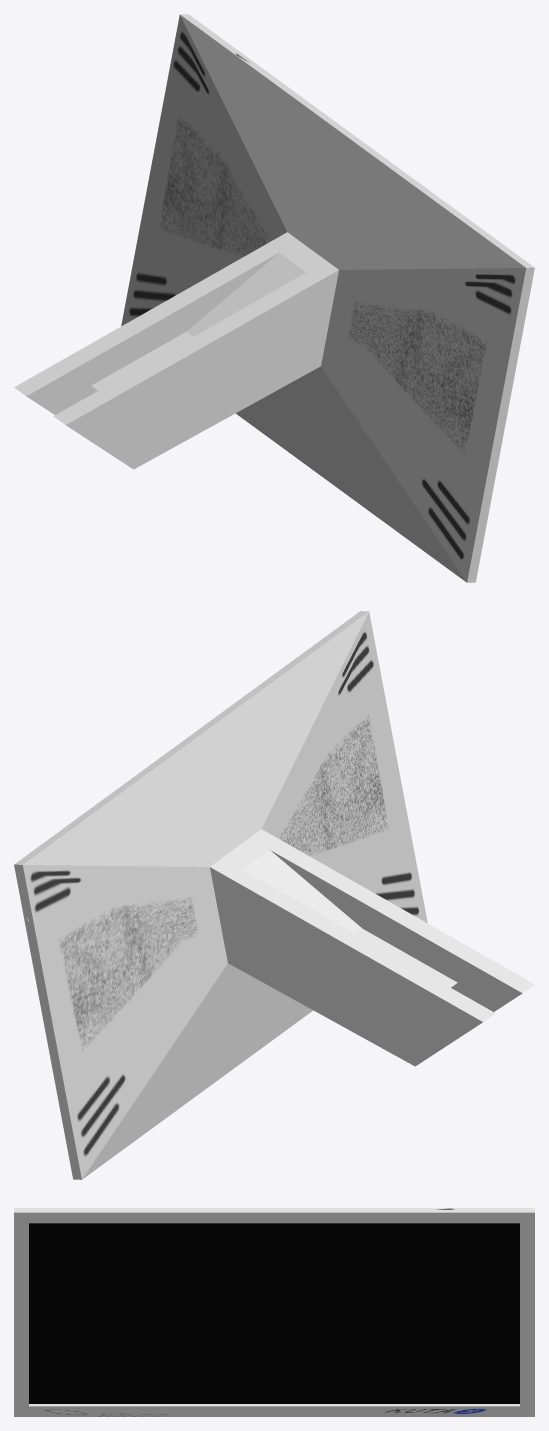
The model's file is monitor_tv.fbx.
3 views of the same model, one above another, from view 1: azimuth 30°, elevation 25°; view 2: azimuth 150°, elevation 25°; view 3: azimuth 270°, elevation 25° (orthographic). The views are drawn at different scales.
Parts seen in each view (by area): view 1: Cube.002; view 2: Cube.002; view 3: Cube.002.
Boxes of the visible parts, <box> form: Cube.002: <box>14,14,534,582</box>; Cube.002: <box>14,611,534,1179</box>; Cube.002: <box>14,1208,534,1416</box>.
Bounding box in the file's own units: 71.88 × 64.51 × 134.
